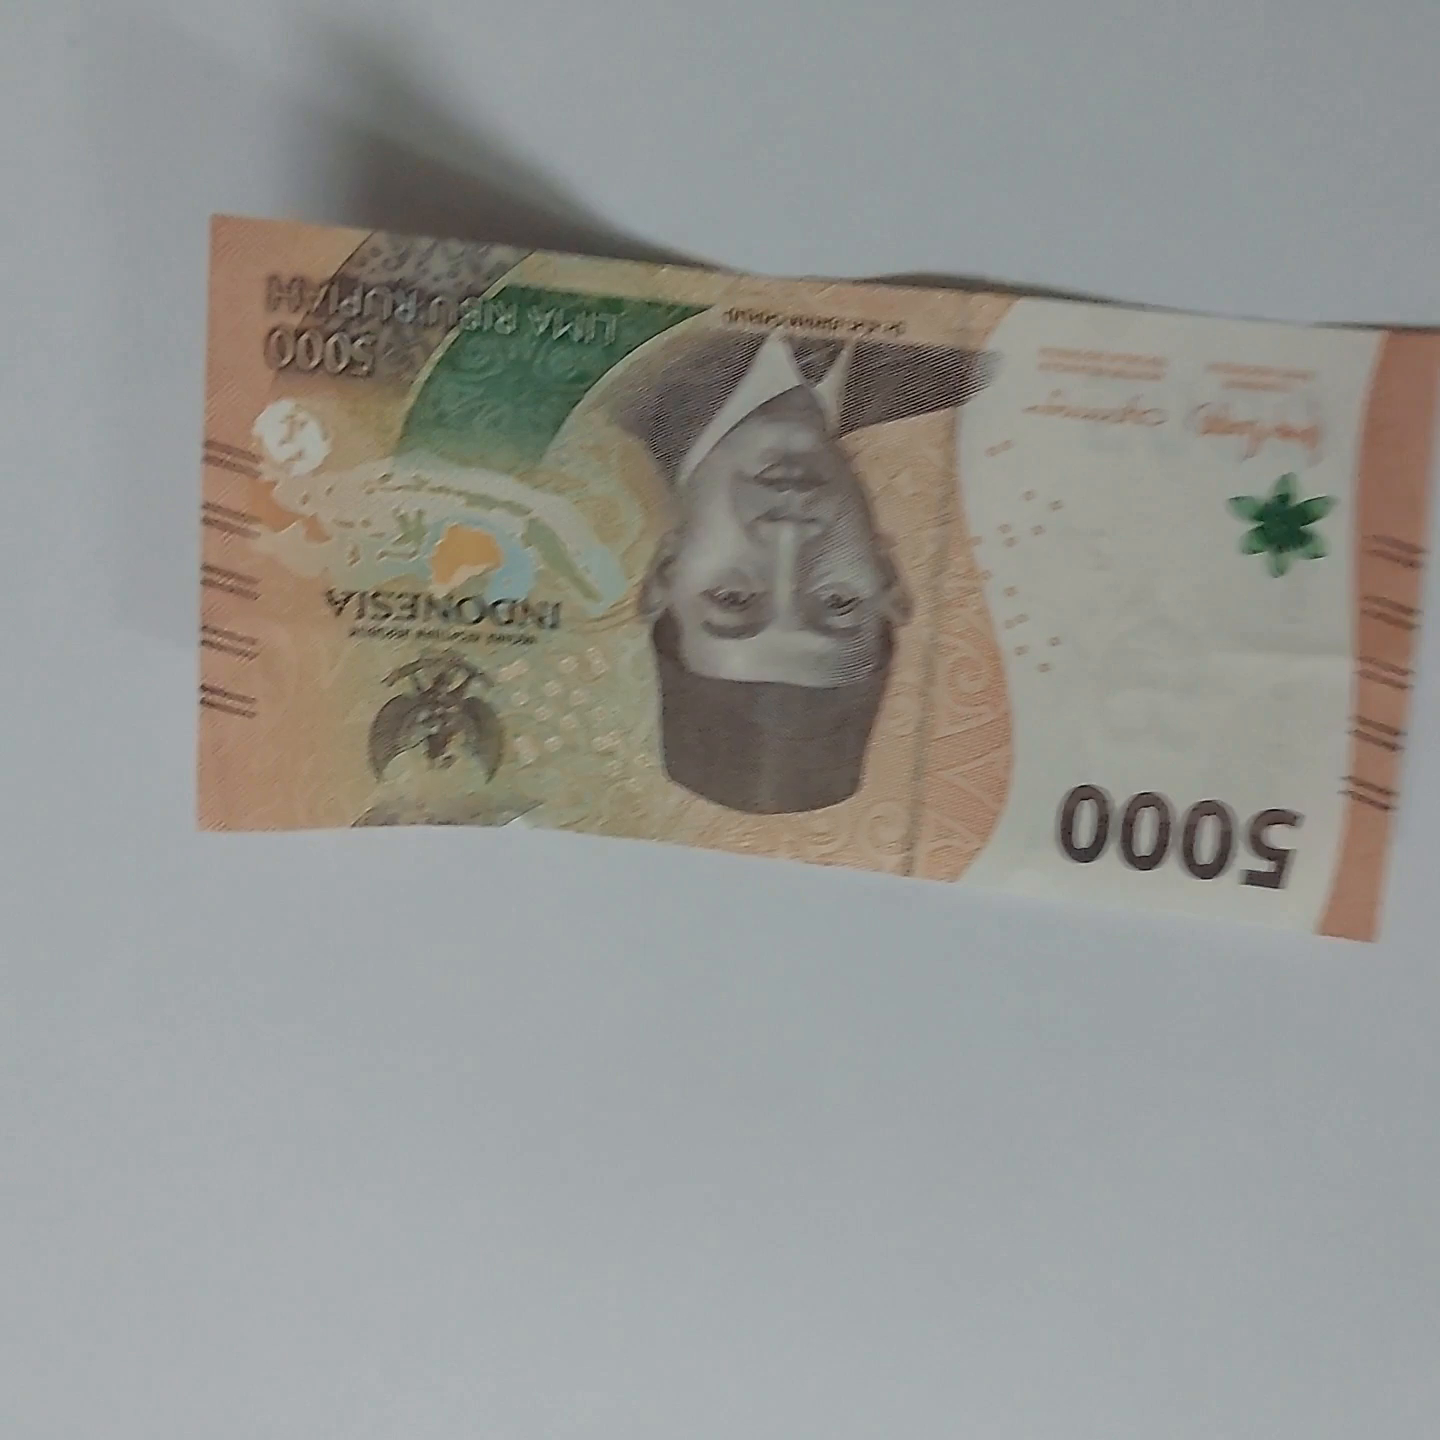5k: (125, 166, 1440, 971)
